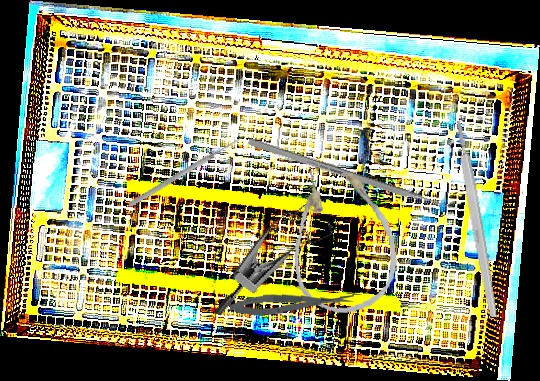Cannula: (283, 158, 403, 319)
Micro Scissor: (229, 289, 355, 319)
Pusher: (247, 137, 468, 217), (127, 135, 243, 209)
Scalpel Handle: (453, 119, 500, 319)
Speculum: (212, 182, 343, 345)
